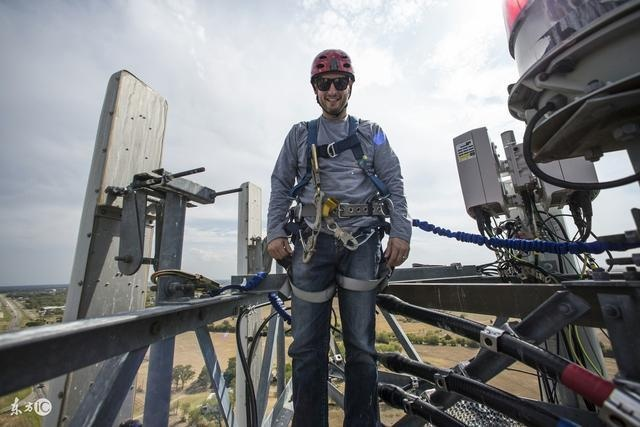red: (305, 47, 359, 116)
